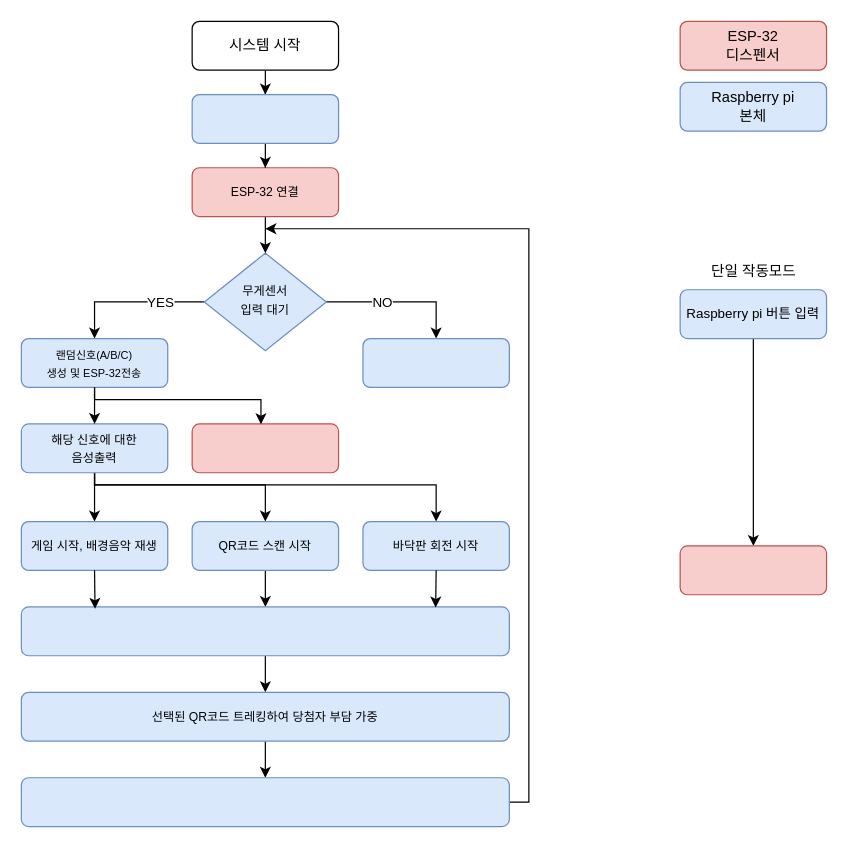
The diagram is 848 pixels wide and 848 high, and some of its shapes have lost their labels. The shapes that lost their labels are listed below. From the top down, each one's centre as x and y in pixels, then its label:
(265,118): raspberry pi 초기화
(435,362): 대기상태 유지
(265,448): 해당 신호에 맞게 음료 정량 토출
(753,570): 음료 한잔 토출
(264,631): QR코드 스캔, 배경음악 종료 스캔된 QR코드 랜덤선택 및 음성 출력
(264,802): 잔을 들어올려 무게센서 입력 해제
